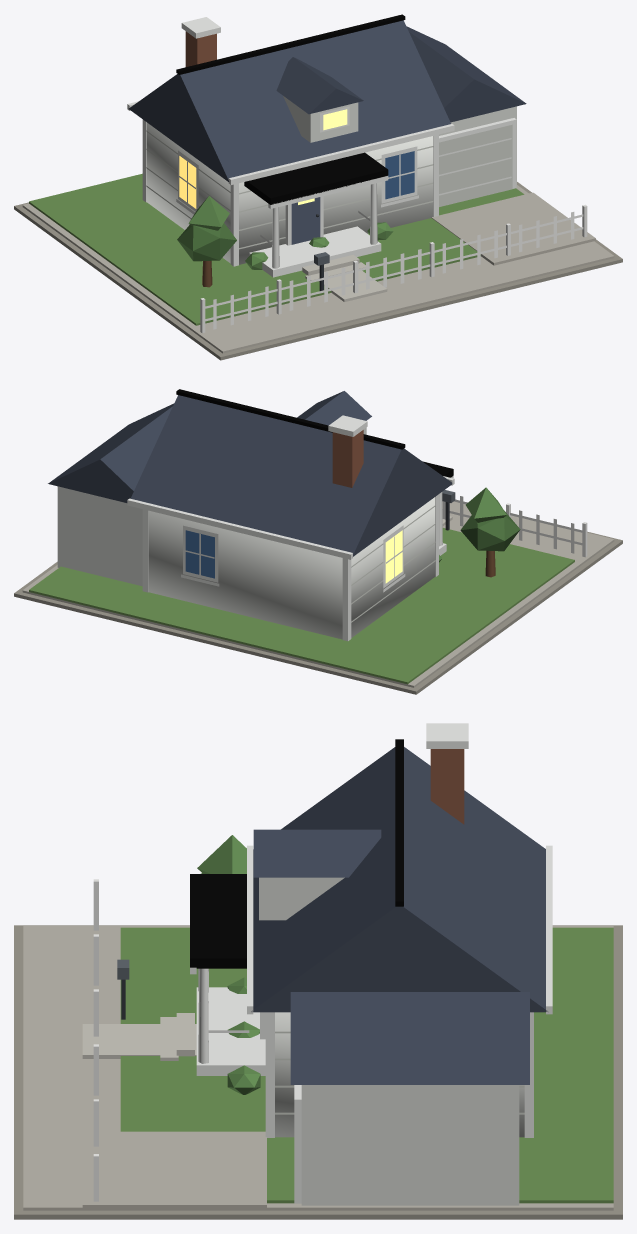
The model's file is sunbeam-cottage.glb.
3 views of the same model, one above another, from view 1: azimuth 30°, elevation 25°; view 2: azimuth 150°, elevation 25°; view 3: azimuth 270°, elevation 25° (orthographic). The views are drawn at different scales.
Parts seen in each view (by area): view 1: Merged_cottage-shingle, Merged_city-lawn, Merged_city-paving, Merged_cottage-siding, Merged_cottage-trim, Merged_cottage-picket, Merged_cottage-shingle-shade, Merged_city-curb, Merged_cottage-siding-shade, Merged_city-paving-light, Merged_city-foliage-deep, Merged_city-foliage (+5 smaller); view 2: Merged_cottage-shingle, Merged_cottage-siding, Merged_city-lawn, Merged_cottage-trim, Merged_city-paving, Merged_city-curb, Merged_cottage-shingle-shade, Merged_cottage-brick, Merged_city-foliage-deep, Merged_cottage-picket, Merged_city-glass-surface, Merged_city-foliage (+2 smaller); view 3: Merged_cottage-shingle, Merged_city-lawn, Merged_city-paving, Merged_cottage-siding, Merged_city-curb, Merged_cottage-trim, Merged_cottage-shingle-shade, Merged_city-paving-light, Merged_city-foliage, Merged_cottage-brick, Merged_cottage-picket.
Boxes of the visible parts, left/top/right/bottom form: Merged_cottage-shingle: left=128, top=20, right=526, bottom=181; Merged_city-lawn: left=29, top=173, right=524, bottom=325; Merged_city-paving: left=22, top=185, right=614, bottom=353; Merged_cottage-siding: left=146, top=96, right=516, bottom=264; Merged_cottage-trim: left=127, top=17, right=516, bottom=277; Merged_cottage-picket: left=200, top=204, right=587, bottom=333; Merged_cottage-shingle-shade: left=176, top=14, right=405, bottom=204; Merged_city-curb: left=14, top=182, right=622, bottom=360; Merged_cottage-siding-shade: left=439, top=124, right=512, bottom=206; Merged_city-paving-light: left=302, top=254, right=387, bottom=301; Merged_city-foliage-deep: left=177, top=223, right=236, bottom=261; Merged_city-foliage: left=188, top=196, right=393, bottom=269; Merged_cottage-shingle: left=48, top=391, right=452, bottom=556; Merged_cottage-siding: left=57, top=427, right=435, bottom=639; Merged_city-lawn: left=29, top=528, right=574, bottom=684; Merged_cottage-trim: left=127, top=415, right=454, bottom=641; Merged_city-paving: left=22, top=501, right=614, bottom=687; Merged_city-curb: left=14, top=502, right=622, bottom=694; Merged_cottage-shingle-shade: left=176, top=389, right=453, bottom=477; Merged_cottage-brick: left=332, top=430, right=363, bottom=487; Merged_city-foliage-deep: left=460, top=510, right=520, bottom=551; Merged_cottage-picket: left=442, top=496, right=587, bottom=557; Merged_city-glass-surface: left=185, top=530, right=214, bottom=578; Merged_city-foliage: left=439, top=487, right=506, bottom=562; Merged_cottage-shingle: left=251, top=747, right=547, bottom=1084; Merged_city-lawn: left=120, top=927, right=613, bottom=1203; Merged_city-paving: left=23, top=926, right=613, bottom=1210; Merged_cottage-siding: left=259, top=877, right=524, bottom=1205; Merged_city-curb: left=14, top=925, right=622, bottom=1219; Merged_cottage-trim: left=190, top=723, right=552, bottom=1203; Merged_cottage-shingle-shade: left=190, top=739, right=403, bottom=968; Merged_city-paving-light: left=82, top=1013, right=196, bottom=1060; Merged_city-foliage: left=197, top=835, right=260, bottom=1094; Merged_cottage-brick: left=430, top=749, right=464, bottom=824; Merged_cottage-picket: left=93, top=879, right=249, bottom=1201.
Size of what is drawn, in the model's own units: 11.38 by 5.31 by 10.12.
